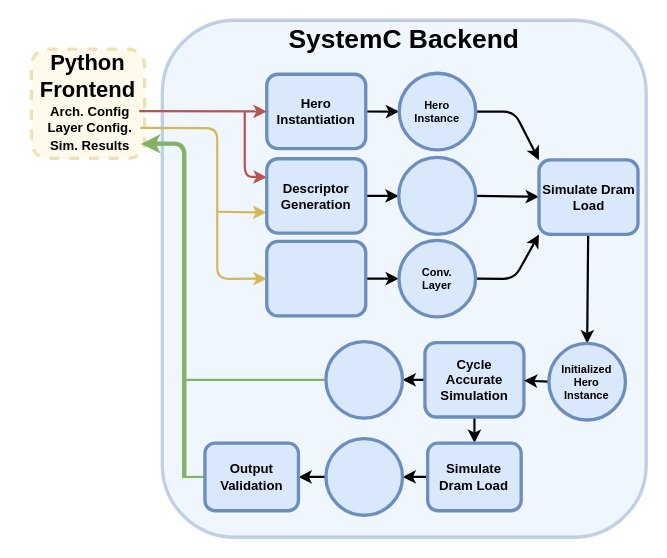
Image size: 667x558. Some labels were removed from this diagram. Here are the shapes that lost their labels. From the top down, the centre of each, then its label:
At [437,195]: "Layer Descriptors".
At [316,278]: "Layer Generation".
At [364,379]: "Simulation Results".
At [364,476]: "Layer Output".
